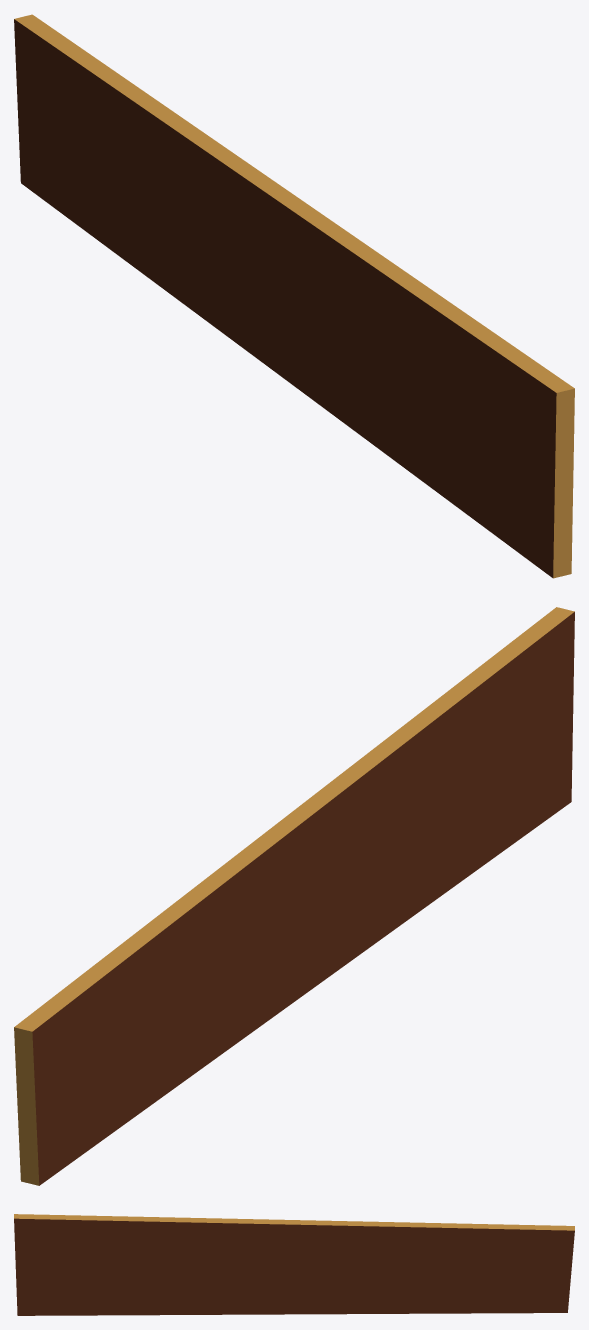
File: FenceWoodPlank01.fbx
3 views of the same model, one above another, from view 1: azimuth 30°, elevation 25°; view 2: azimuth 150°, elevation 25°; view 3: azimuth 270°, elevation 25° (orthographic). The views are drawn at different scales.
Parts seen in each view (by area): view 1: WoodPlank01; view 2: WoodPlank01; view 3: WoodPlank01.
Boxes of the visible parts, x1=… form: WoodPlank01: x1=14, y1=14, x2=574, y2=578; WoodPlank01: x1=14, y1=607, x2=574, y2=1185; WoodPlank01: x1=14, y1=1214, x2=574, y2=1315.
Size of the model in its own units: 2 by 19.49 by 102.
